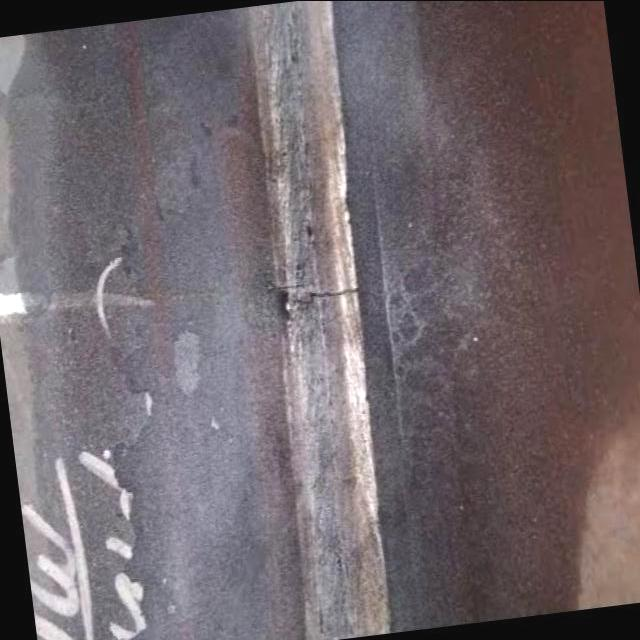defect: (289, 284, 363, 308)
